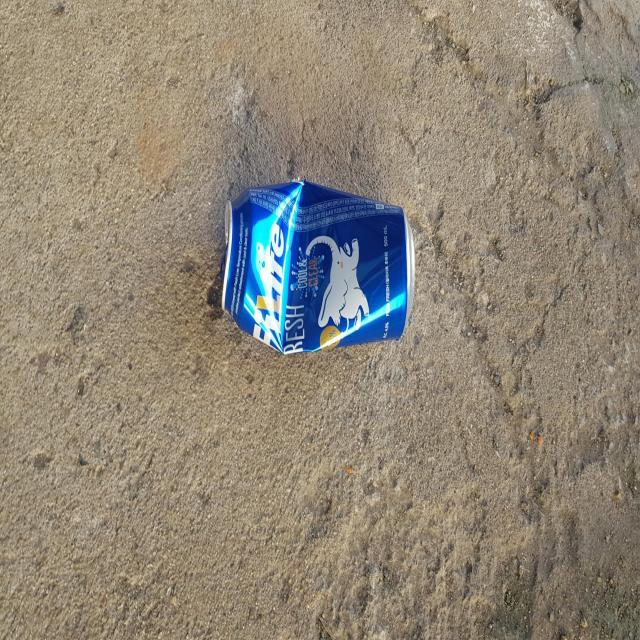can: (222, 179, 415, 353)
